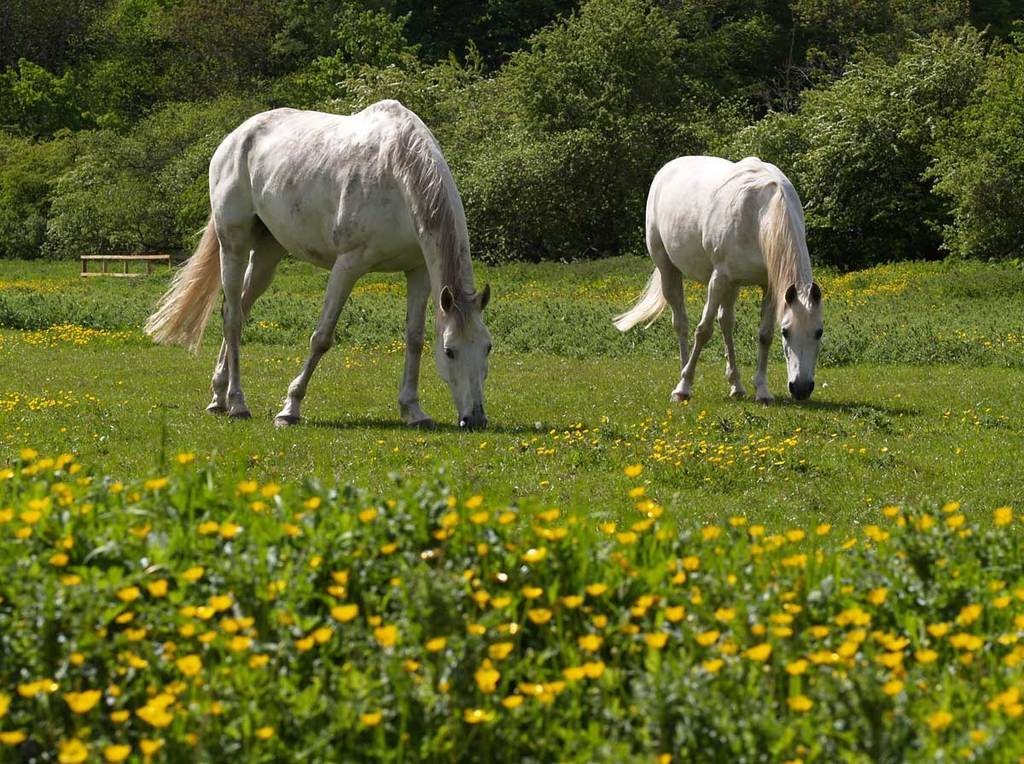horse: (145, 96, 497, 431), (605, 151, 826, 412)
